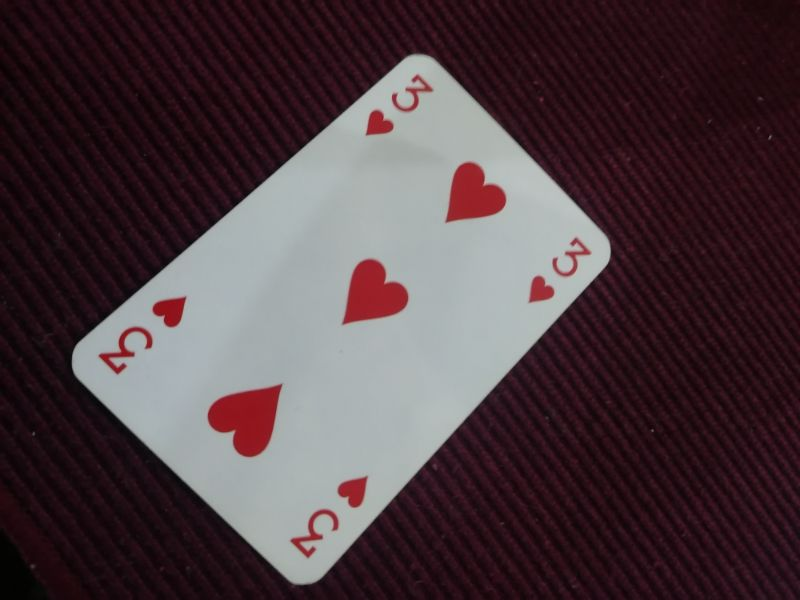3h: (96, 289, 191, 378), (286, 470, 377, 562), (362, 68, 436, 143), (524, 234, 597, 306)
